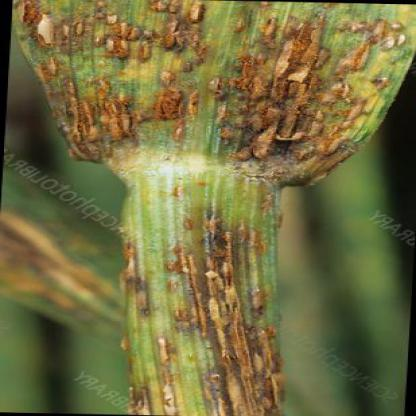wheat Stem Rust: (134, 194, 269, 415), (206, 10, 340, 163), (74, 7, 198, 152), (347, 16, 396, 79), (19, 6, 60, 46)
